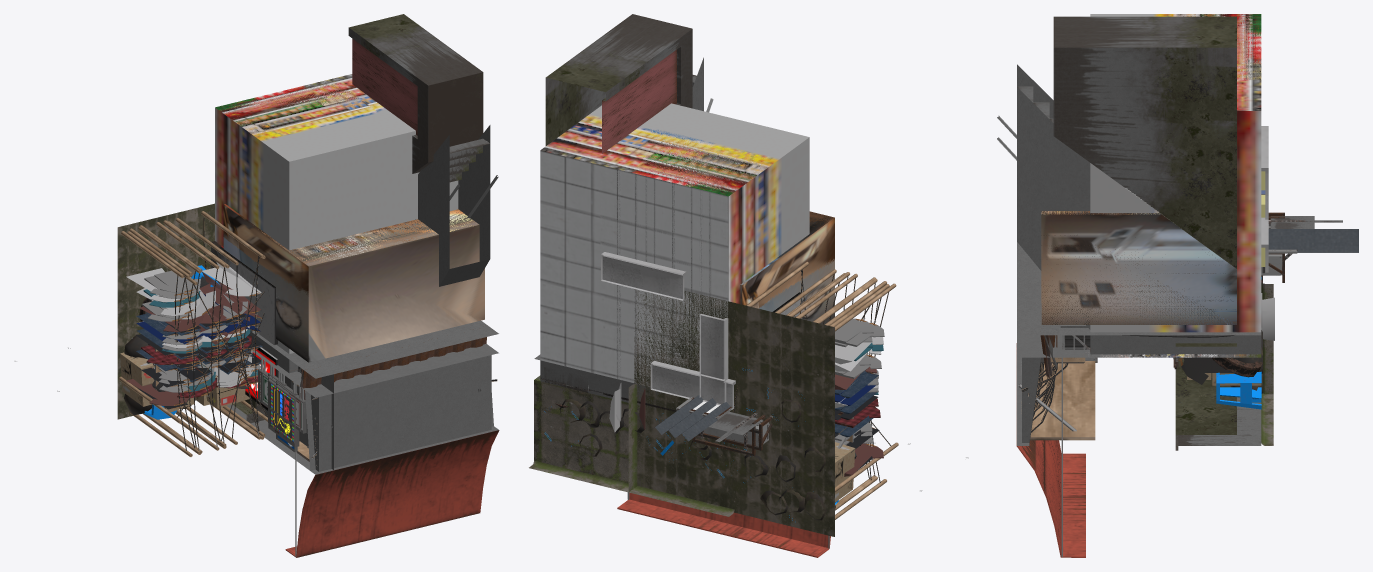
File: kit.glb
The picture shows the model from 3 angles, left to right: view 1: azimuth 30°, elevation 25°; view 2: azimuth 150°, elevation 25°; view 3: azimuth 270°, elevation 25°; orthographic projection. The views are drawn at different scales.
Visible parts, largest first — view 1: ground room1.001, Cube.248, store_roof.001, groundfront1.001, 1guardrail_front.001, groundfront2.003, roof.001, ground room2.003, Cube.251, Plane.039, Cube.256, Cube.252 (+12 smaller); view 2: ground room1.001, ground room2.003, roof.001, 1guardrail_front.001, groundfront1.001, ground_side_wall.001, store_roof.001, groundfront2.003, Cube.251, shelf.003, shelf.004, shelf.005 (+8 smaller); view 3: 1guardrail_front.001, Cube.248, ground room2.003, groundfront1.001, store_roof.001, guardrail_back.001, groundfront2.003, Cube.233, Plane.039, Plane.034, ground room1.001, Cube.249 (+9 smaller).
Boxes of the visible parts, box(x1,y1,x2,y2) form: ground room1.001: box(215, 80, 406, 353); Cube.248: box(308, 225, 484, 362); store_roof.001: box(285, 383, 499, 557); groundfront1.001: box(250, 125, 498, 472); 1guardrail_front.001: box(348, 14, 483, 173); groundfront2.003: box(289, 355, 497, 471); roof.001: box(117, 203, 214, 419); ground room2.003: box(215, 74, 458, 353); Cube.251: box(223, 204, 473, 294); Plane.039: box(252, 320, 498, 378); Cube.256: box(273, 211, 479, 266); Cube.252: box(223, 237, 308, 362); ground room1.001: box(600, 106, 809, 386); ground room2.003: box(540, 103, 808, 386); roof.001: box(634, 289, 834, 536); 1guardrail_front.001: box(545, 14, 692, 153); groundfront1.001: box(534, 57, 713, 489); ground_side_wall.001: box(529, 375, 734, 513); store_roof.001: box(617, 492, 830, 557); groundfront2.003: box(534, 360, 663, 471); Cube.251: box(742, 217, 834, 308); shelf.003: box(601, 252, 686, 300); shelf.004: box(699, 314, 728, 405); shelf.005: box(650, 360, 735, 409); 1guardrail_front.001: box(1053, 16, 1236, 268); Cube.248: box(1041, 211, 1236, 324); ground room2.003: box(1090, 14, 1261, 332); groundfront1.001: box(997, 64, 1272, 445); store_roof.001: box(1016, 343, 1085, 557); guardrail_back.001: box(1175, 357, 1261, 450); groundfront2.003: box(1017, 335, 1261, 445); Cube.233: box(1018, 361, 1095, 439); Plane.039: box(1017, 242, 1261, 335); Plane.034: box(1268, 229, 1358, 252); ground room1.001: box(1090, 14, 1261, 79); Cube.249: box(1041, 211, 1236, 324).
Bounding box in the file's own units: 2.12 × 2.31 × 1.48.
3 materials, 2 textured.
